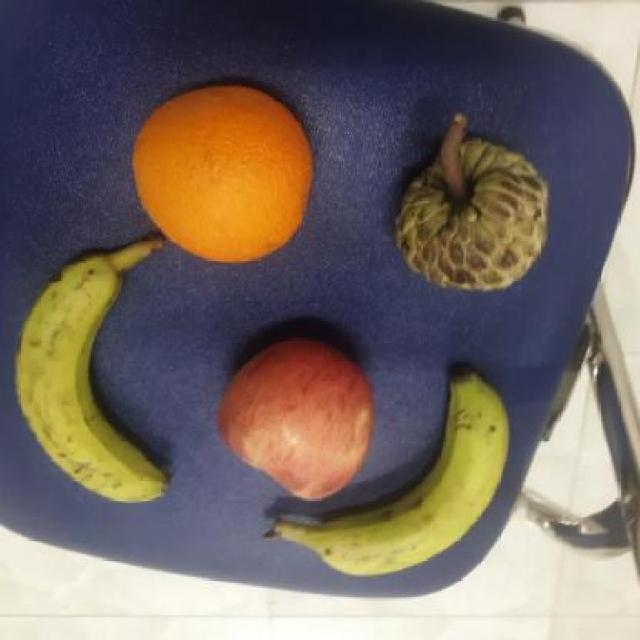apple: (206, 341, 385, 501)
banana: (7, 234, 175, 506)
oren: (123, 84, 323, 265)
sugar apple: (386, 138, 559, 296)
